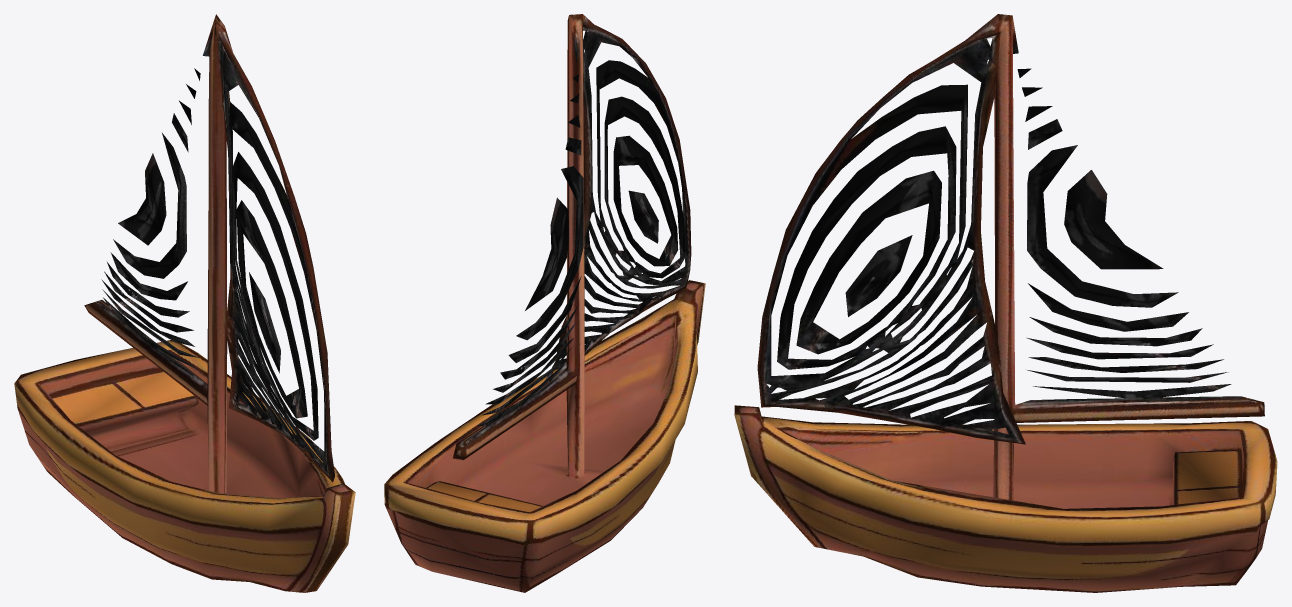
File: demo_sailboat_chibi.glb
3 views of the same model, side by side, from view 1: azimuth 30°, elevation 25°; view 2: azimuth 150°, elevation 25°; view 3: azimuth 270°, elevation 25° (orthographic). The views are drawn at different scales.
Parts seen in each view (by area): view 1: tripo_node_b3b46725-a0a3-470e-8aff-04119290cbe0.001; view 2: tripo_node_b3b46725-a0a3-470e-8aff-04119290cbe0.001; view 3: tripo_node_b3b46725-a0a3-470e-8aff-04119290cbe0.001.
Part boxes in pixels (bbox=[...]): tripo_node_b3b46725-a0a3-470e-8aff-04119290cbe0.001: bbox=[14, 14, 355, 592]; tripo_node_b3b46725-a0a3-470e-8aff-04119290cbe0.001: bbox=[384, 14, 705, 592]; tripo_node_b3b46725-a0a3-470e-8aff-04119290cbe0.001: bbox=[734, 14, 1277, 592].
Size of the model in its own units: 0.3752 by 0.9949 by 0.897.
1 material, 1 textured.
